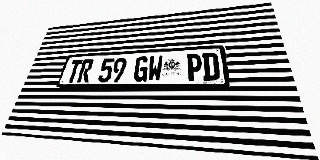5: (97, 58, 115, 82)
9: (110, 57, 127, 82)
D: (202, 52, 220, 81)
G: (133, 56, 149, 82)
P: (186, 53, 203, 81)
R: (76, 59, 94, 83)
T: (65, 60, 83, 83)
W: (147, 55, 163, 82)
